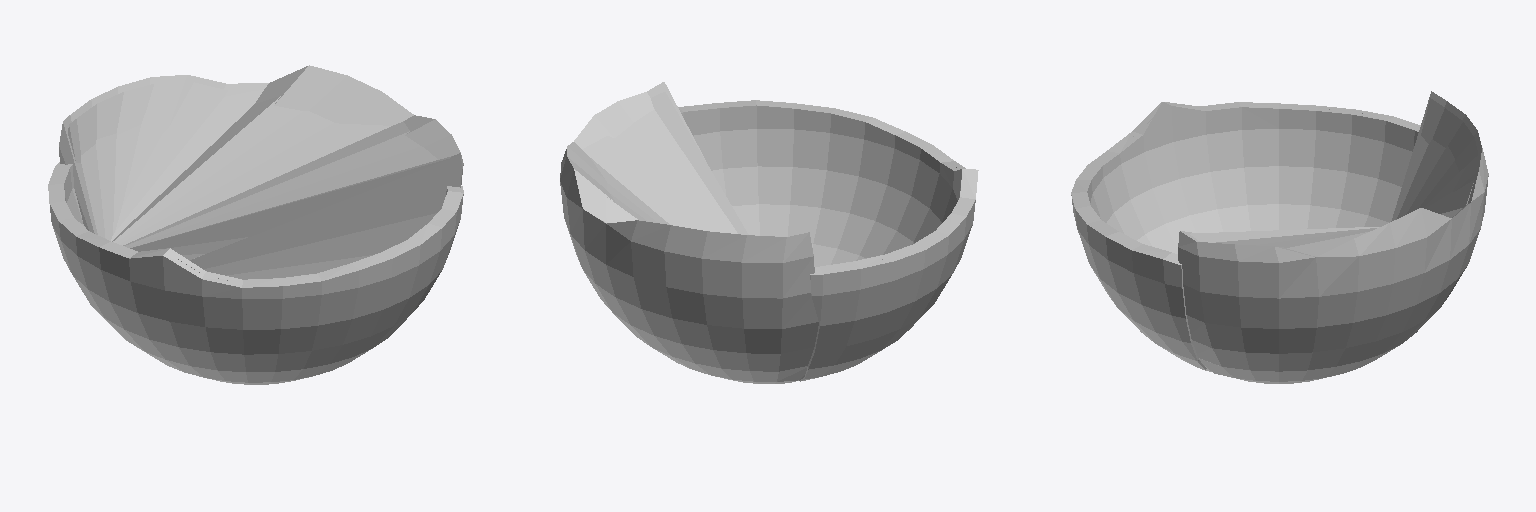
Rendered from broken_ball12.obj.
The picture shows the model from 3 angles: view 1: azimuth 30°, elevation 25°; view 2: azimuth 150°, elevation 25°; view 3: azimuth 270°, elevation 25°; orthographic projection.
Visible parts, largest first — view 1: piece_1_Sphere.003, piece4_Sphere.005; view 2: piece_1_Sphere.003, piece4_Sphere.005; view 3: piece4_Sphere.005, piece_1_Sphere.003.
Boxes of the visible parts, x1,y1,x2,y2 form: piece_1_Sphere.003: [59, 65, 463, 279]; piece4_Sphere.005: [48, 162, 463, 384]; piece_1_Sphere.003: [560, 82, 818, 383]; piece4_Sphere.005: [678, 100, 978, 381]; piece4_Sphere.005: [1071, 102, 1420, 377]; piece_1_Sphere.003: [1178, 91, 1488, 383].
Bounding box in the file's own units: 0.5178 × 0.2981 × 0.5175.